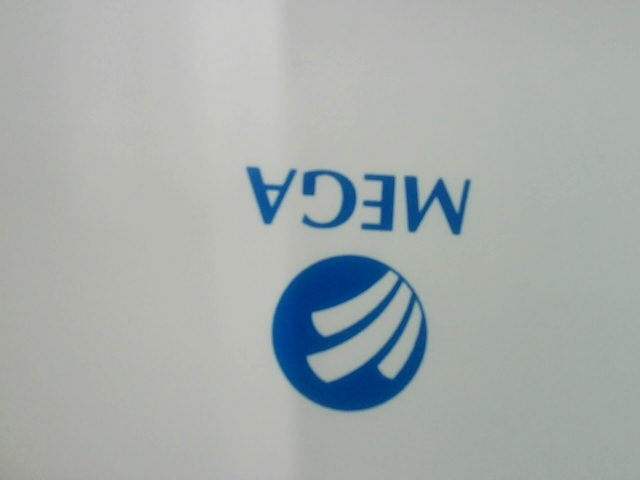AM_ZTEMEGA: (229, 155, 501, 418)
